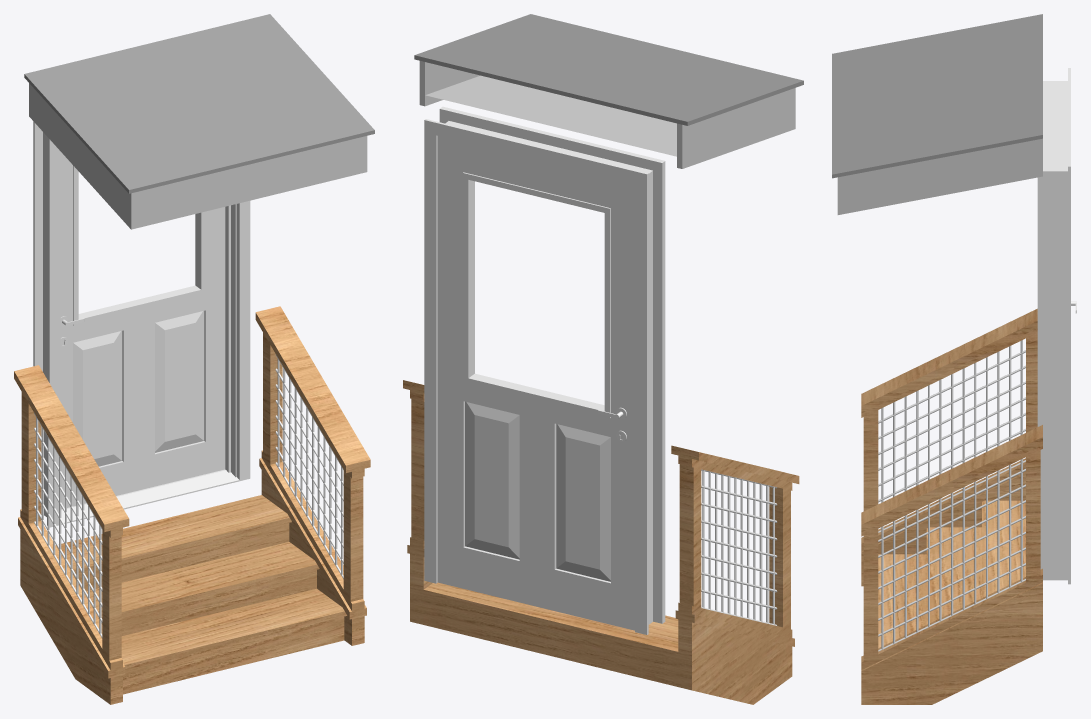
Rendered from ext-door-1.glb.
3 renders of one model, left to right at view 1: azimuth 30°, elevation 25°; view 2: azimuth 150°, elevation 25°; view 3: azimuth 270°, elevation 25°, orthographic. The views are drawn at different scales.
Visible parts, largest first — view 1: stair-wood, door-white, stair- Rooftop, stair- Roofsiding, stair-metal; view 2: door-white, stair-wood, stair- Rooftop, stair- Roofsiding, stair-metal; view 3: stair-wood, stair- Rooftop, door-white, stair-metal, stair- Roofsiding.
Part boxes in pixels (x1,y1,x2,y2): stair-wood: (14, 306, 370, 704); door-white: (33, 121, 250, 527); stair- Rooftop: (24, 14, 374, 193); stair- Roofsiding: (29, 83, 367, 229); stair-metal: (34, 354, 343, 637); door-white: (424, 106, 665, 634); stair-wood: (403, 380, 799, 704); stair- Rooftop: (414, 14, 803, 125); stair- Roofsiding: (419, 61, 795, 168); stair-metal: (701, 469, 777, 625); stair-wood: (861, 308, 1042, 704); stair- Rooftop: (832, 14, 1042, 178); door-white: (1037, 68, 1070, 584); stair-metal: (878, 340, 1025, 651); stair- Roofsiding: (837, 138, 1042, 214).
Bounding box in the file's own units: 1.42 × 2.87 × 1.12.
7 materials, 1 textured.
